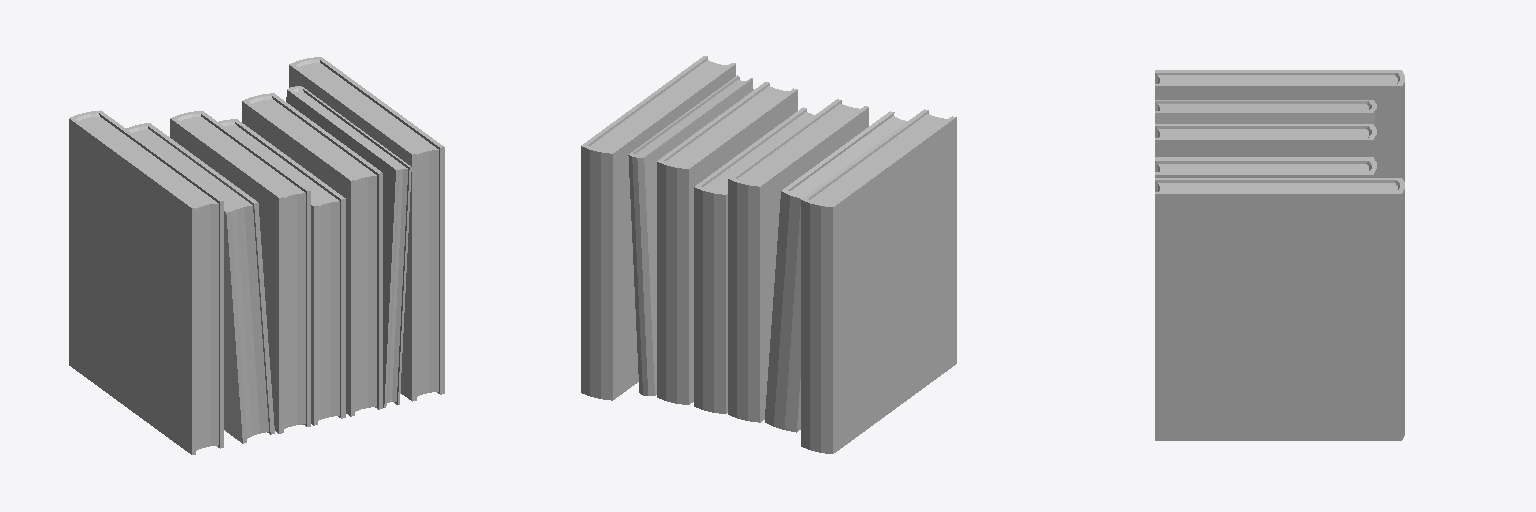
File: pcity_nodes_books_3.obj
3 renders of one model, left to right at view 1: azimuth 30°, elevation 25°; view 2: azimuth 150°, elevation 25°; view 3: azimuth 270°, elevation 25°, orthographic.
Parts seen in each view (by area): view 1: Books_3; view 2: Books_3; view 3: Books_3.
Boxes of the visible parts, x1=… form: Books_3: x1=69, y1=57, x2=444, y2=454; Books_3: x1=581, y1=56, x2=956, y2=453; Books_3: x1=1155, y1=70, x2=1404, y2=440.
Size of the model in its own units: 0.7835 by 0.7352 by 0.6728.